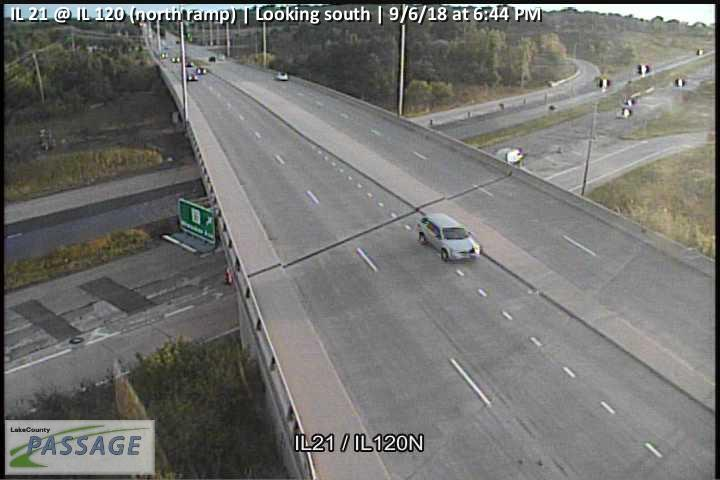SUV: (416, 213, 481, 262), (275, 71, 288, 80)
